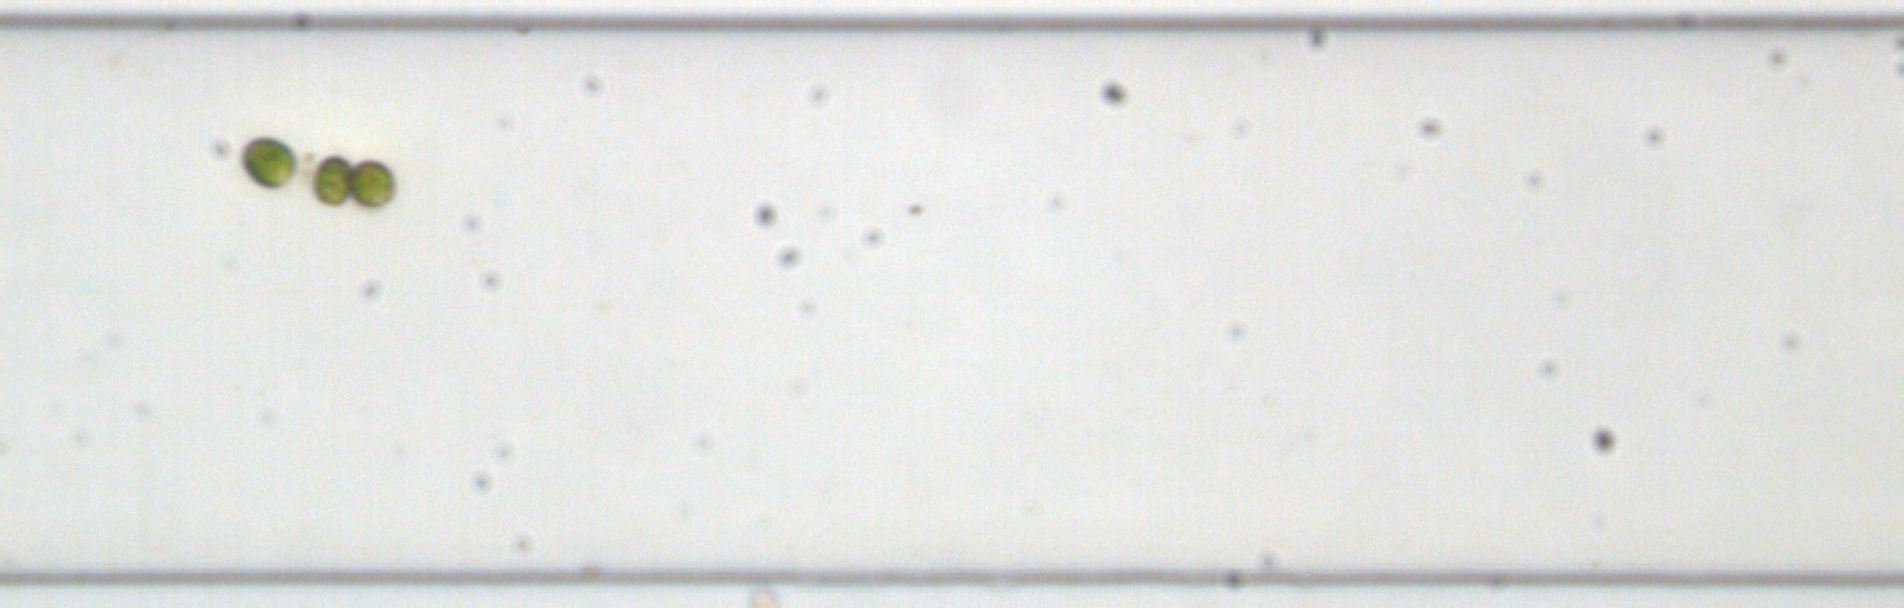Platymonas: (237, 136, 296, 188), (347, 157, 396, 209), (310, 154, 353, 206)
